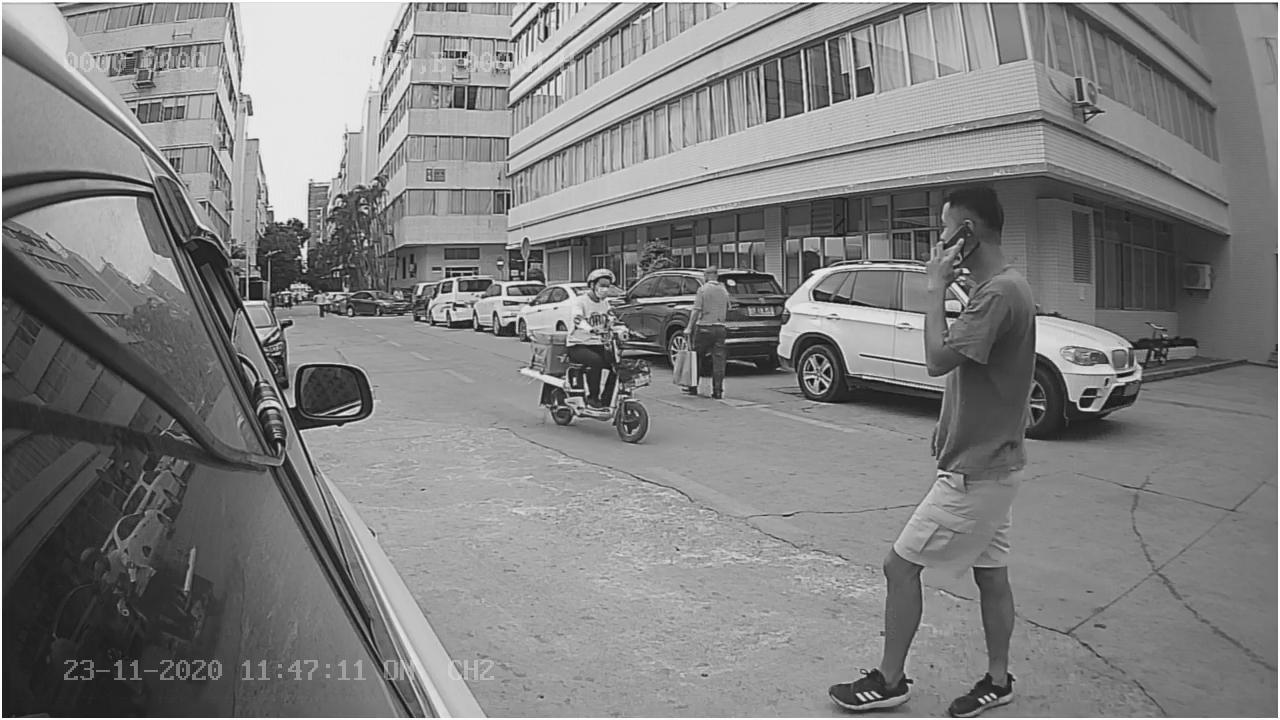person: (568, 256, 624, 327)
